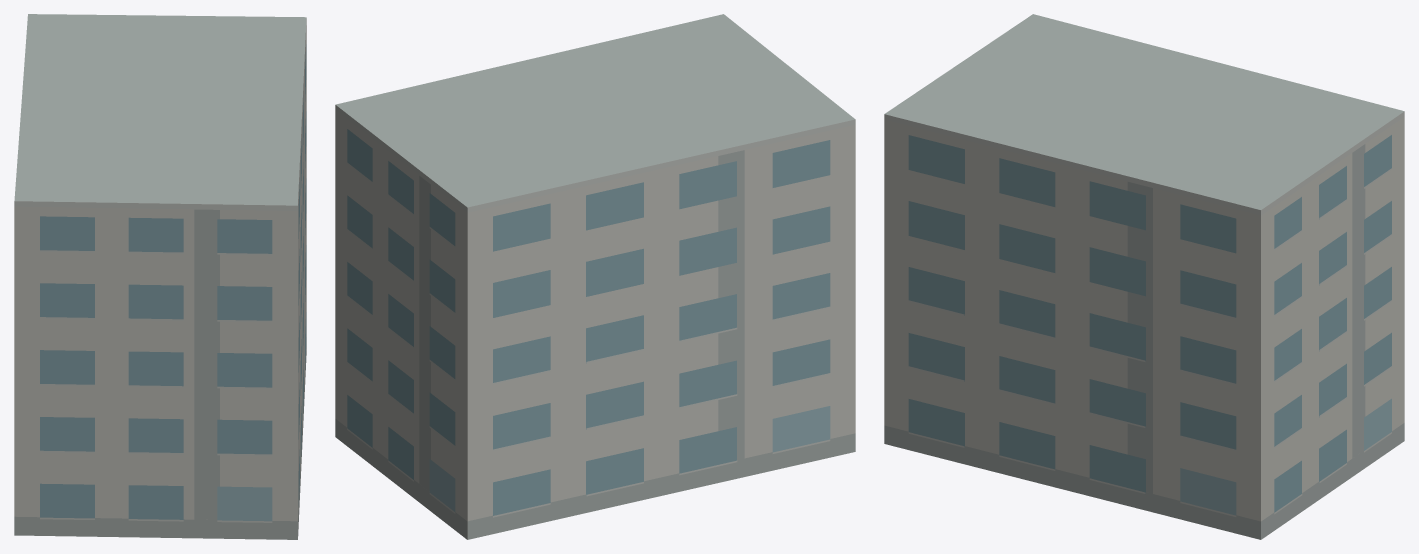
The model's file is survey-upis-32689003.glb.
3 renders of one model, left to right at view 1: azimuth 30°, elevation 25°; view 2: azimuth 150°, elevation 25°; view 3: azimuth 270°, elevation 25°, orthographic.
Parts seen in each view (by area): view 1: survey-upis-32689003.tmp; view 2: survey-upis-32689003.tmp; view 3: survey-upis-32689003.tmp.
Part boxes in pixels (x1,y1,x2,y2): survey-upis-32689003.tmp: (14,14,306,539); survey-upis-32689003.tmp: (335,14,855,539); survey-upis-32689003.tmp: (884,14,1404,539).
Size of the model in its own units: 18.9 by 14.8 by 21.18.
